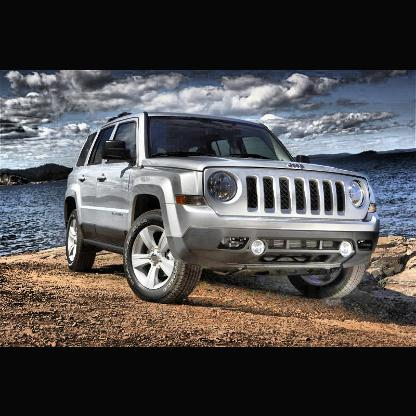Jeep Patriot SUV 2012: (64, 111, 380, 303)
